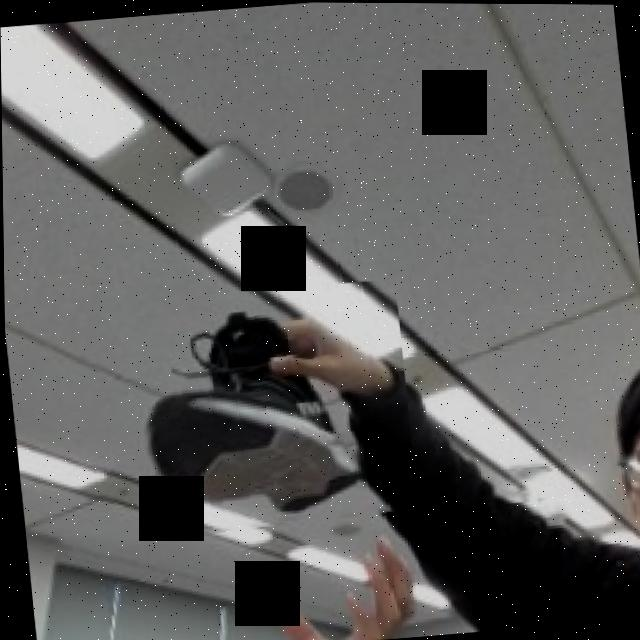shoe: (74, 276, 418, 547)
